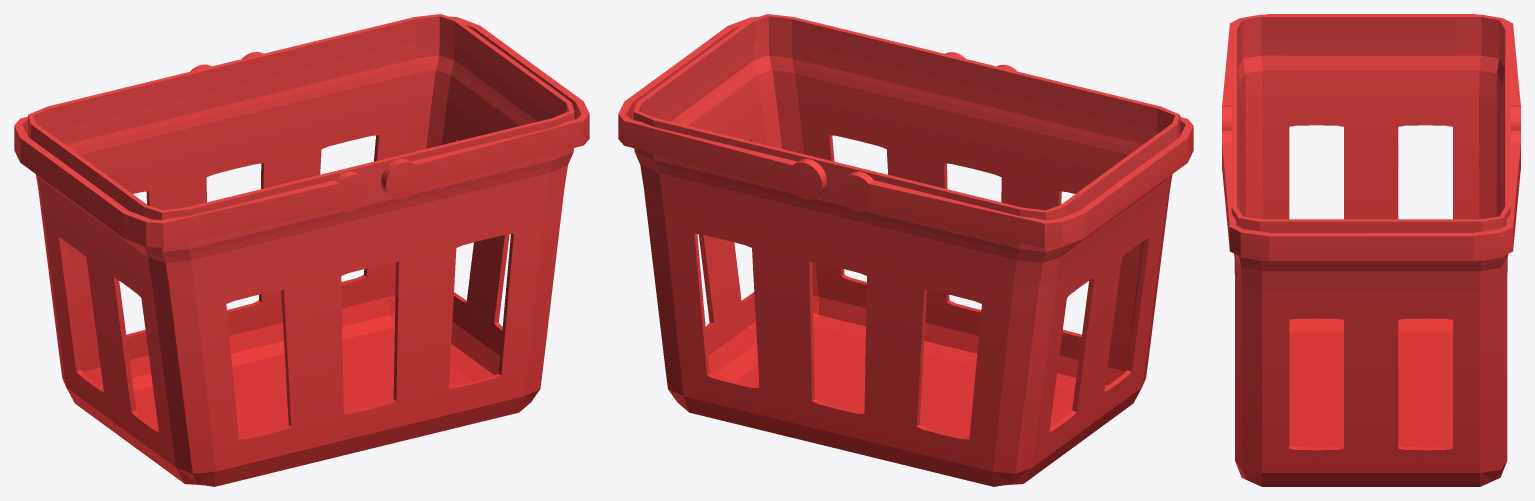
The model's file is basket_red.fbx.
3 renders of one model, left to right at view 1: azimuth 30°, elevation 25°; view 2: azimuth 150°, elevation 25°; view 3: azimuth 270°, elevation 25°, orthographic.
Visible parts, largest first — view 1: basket_red, handle2_red, handle1_red; view 2: basket_red, handle2_red, handle1_red; view 3: basket_red, handle1_red, handle2_red.
Boxes of the visible parts, x1=… form: basket_red: x1=28, y1=14, x2=574, y2=486; handle2_red: x1=14, y1=64, x2=368, y2=247; handle1_red: x1=242, y1=16, x2=589, y2=199; basket_red: x1=633, y1=14, x2=1180, y2=486; handle2_red: x1=839, y1=64, x2=1193, y2=248; handle1_red: x1=618, y1=17, x2=965, y2=199; basket_red: x1=1231, y1=14, x2=1510, y2=486; handle1_red: x1=1222, y1=130, x2=1520, y2=260; handle2_red: x1=1222, y1=14, x2=1520, y2=129.
Size of the model in its own units: 344 by 211 by 195.
